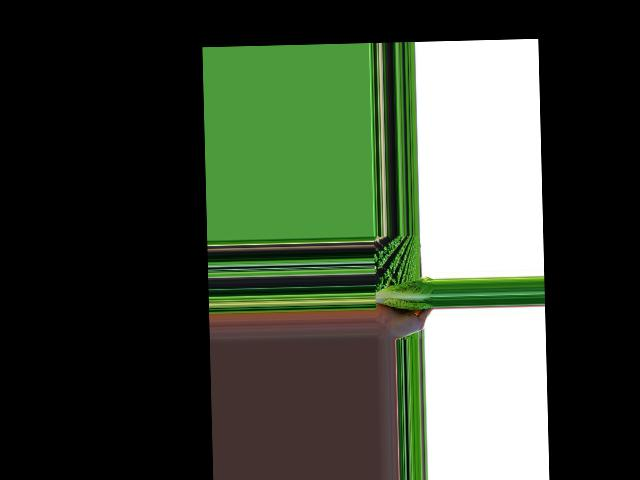lettuce: (374, 278, 432, 310)
